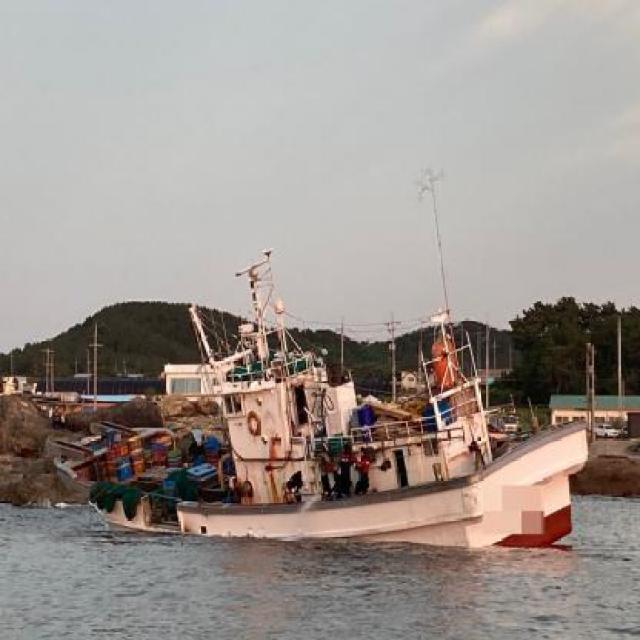Ship: (53, 243, 595, 568)
